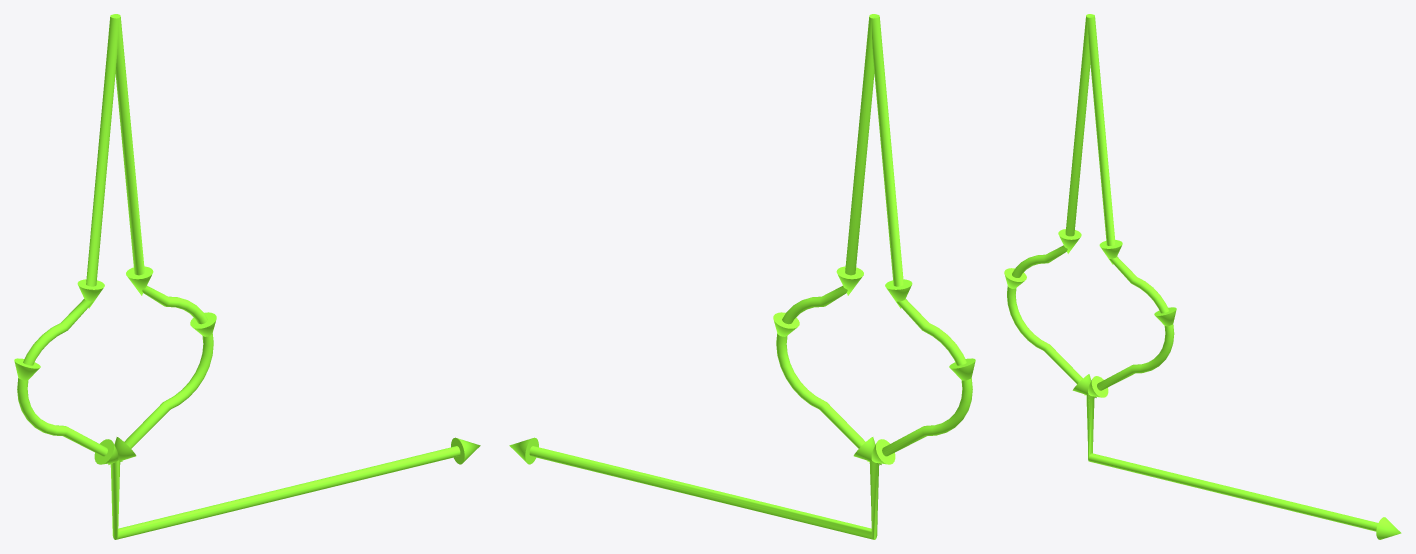
File: roots_blower_flow.glb
3 views of the same model, side by side, from view 1: azimuth 30°, elevation 25°; view 2: azimuth 150°, elevation 25°; view 3: azimuth 330°, elevation 25° (orthographic). The views are drawn at different scales.
Visible parts, largest first — view 1: pocket_1, pocket_2; view 2: pocket_1, pocket_2; view 3: pocket_1, pocket_2.
Boxes of the visible parts, box(x1,y1,x2,y2) form: pocket_1: box(14, 14, 480, 539); pocket_2: box(108, 14, 216, 535); pocket_1: box(509, 14, 975, 539); pocket_2: box(773, 14, 881, 520); pocket_1: box(1004, 14, 1401, 539); pocket_2: box(1084, 14, 1176, 457).
Bounding box in the file's own units: 0.8091 × 0.8836 × 0.0416.
